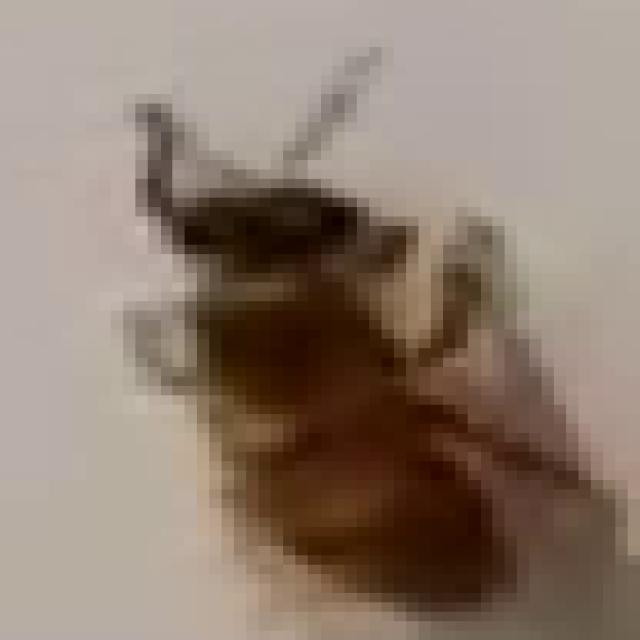honeybee: (80, 81, 578, 616)
